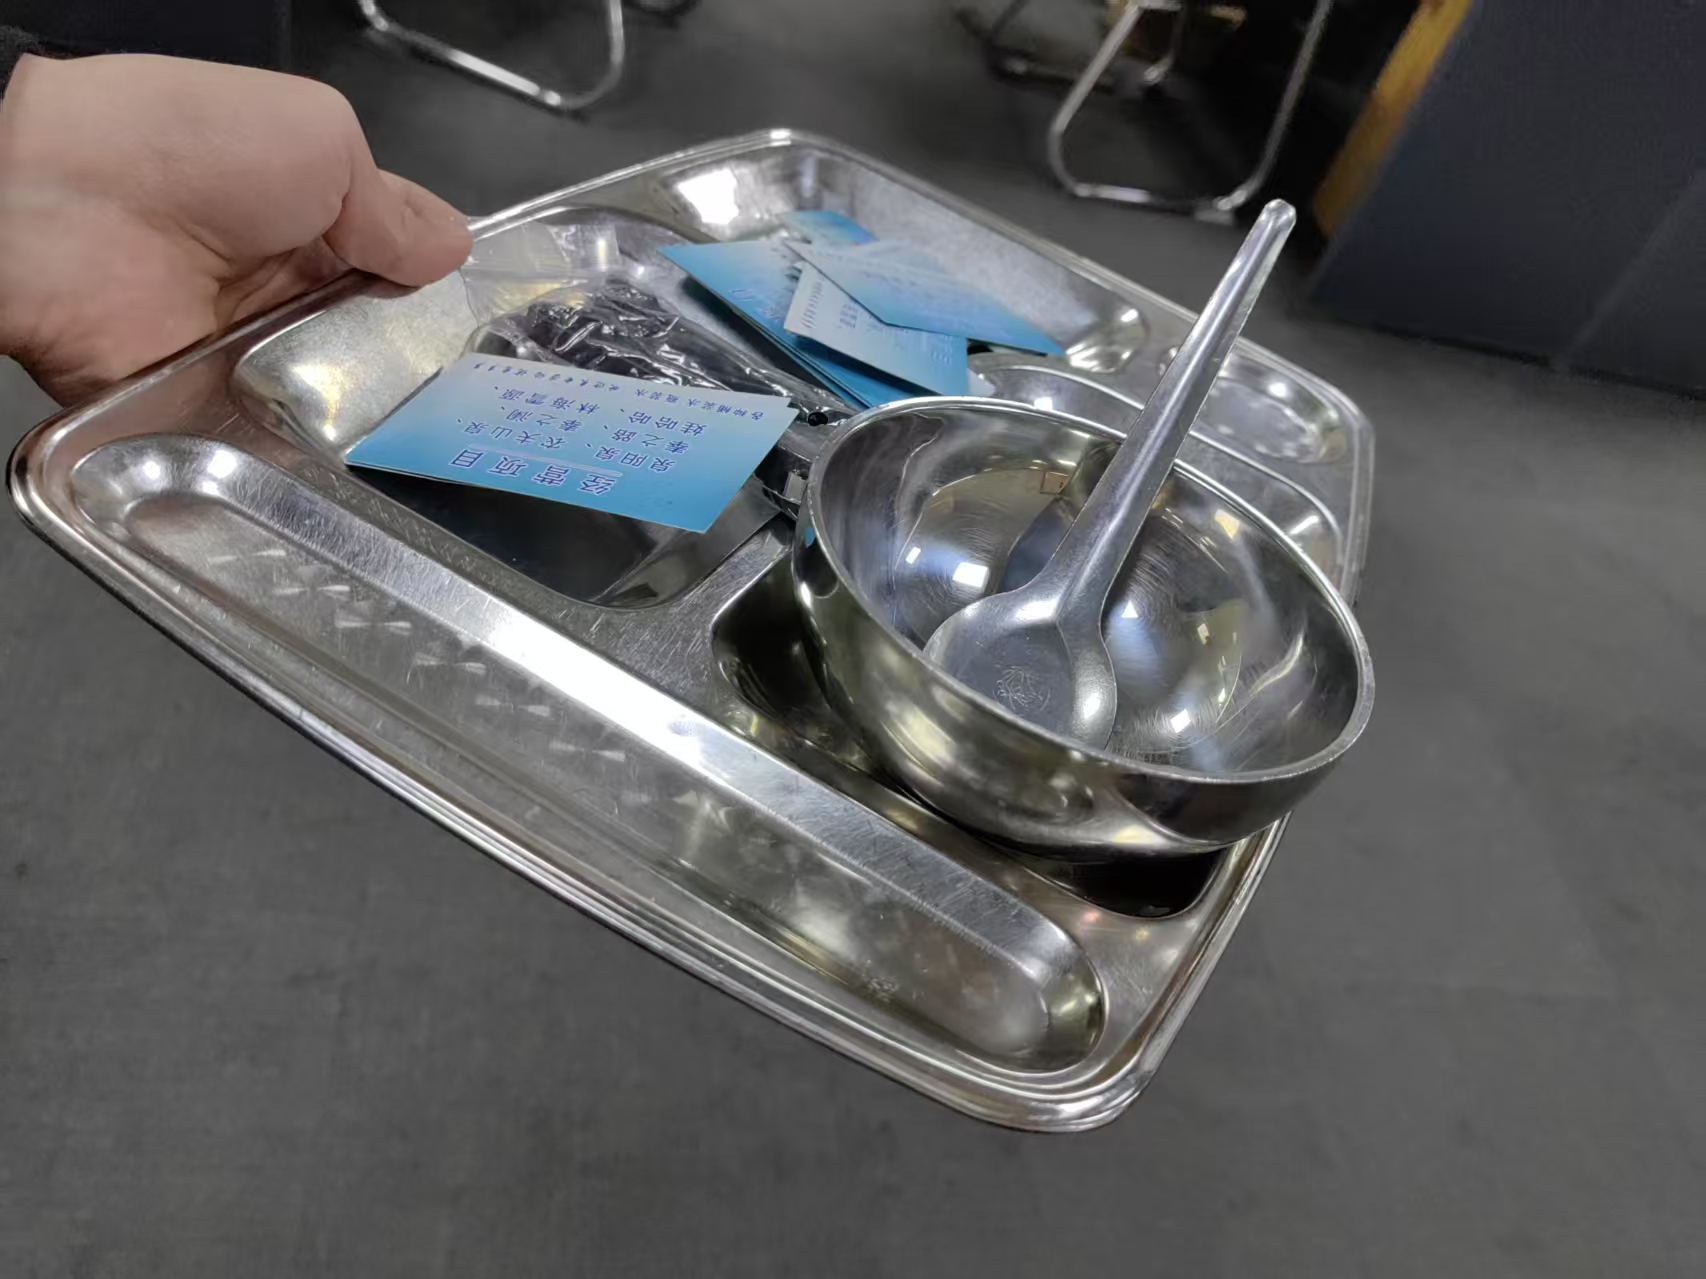moderate: (341, 202, 1072, 541)
plate: (8, 121, 1375, 1138)
